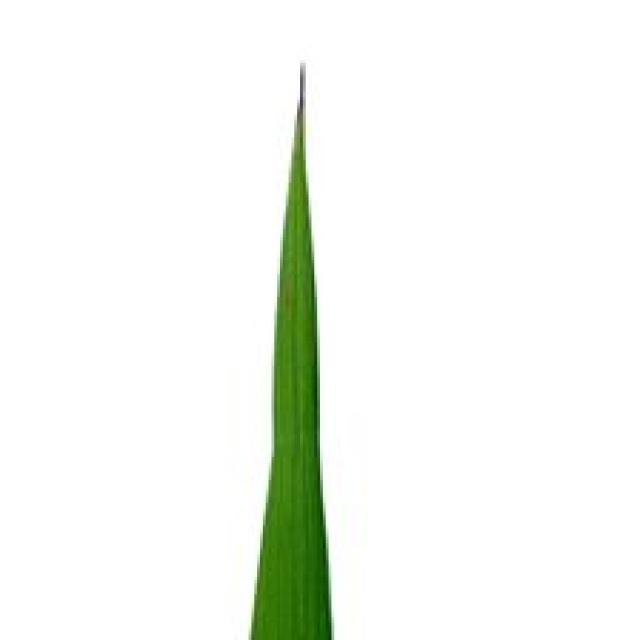Rice___Healthy_Rice_Plant: (248, 62, 336, 637)
